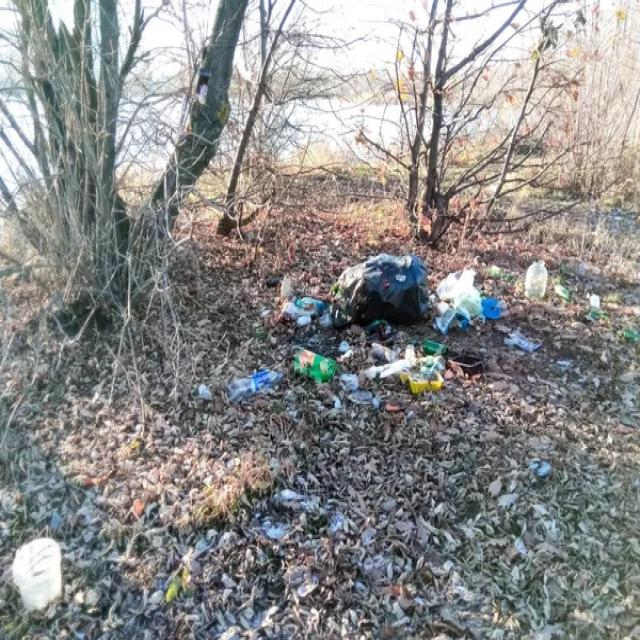garbage: (237, 194, 609, 607)
